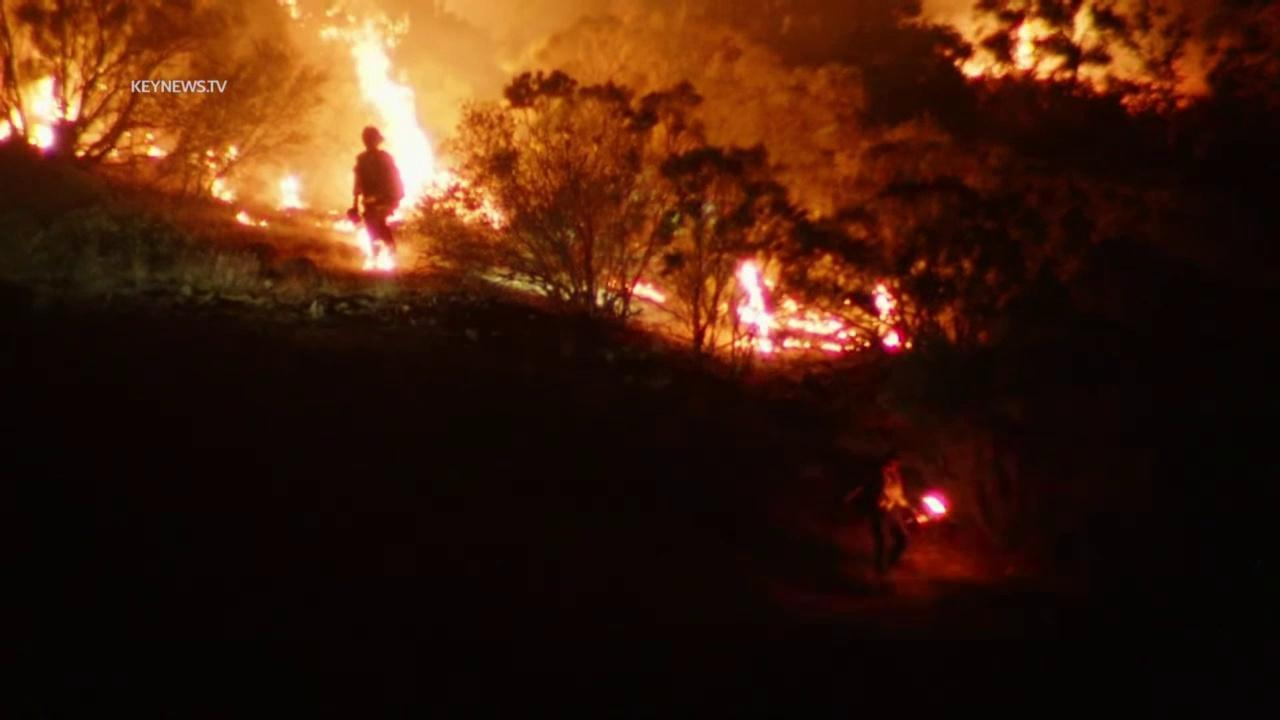fire: (316, 3, 507, 229), (730, 255, 858, 361), (0, 71, 80, 156), (328, 218, 400, 280), (1012, 14, 1069, 86), (198, 143, 242, 204), (953, 46, 993, 85), (275, 172, 308, 217), (868, 282, 903, 322), (919, 491, 954, 523), (629, 281, 667, 307), (142, 132, 175, 160), (876, 325, 904, 354), (233, 211, 270, 229)
smoke: (0, 0, 849, 238)
